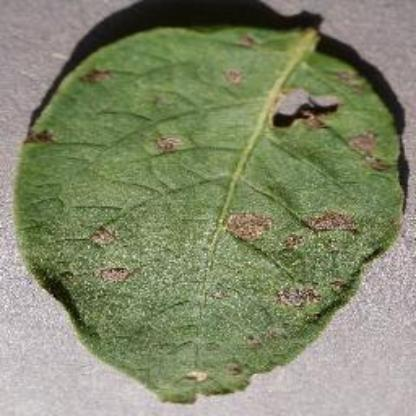Early-Blight: (12, 14, 406, 410)
